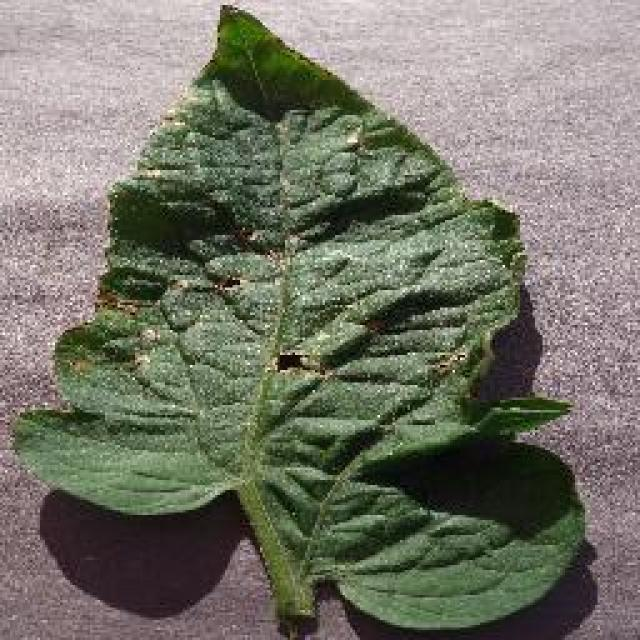Tomato___Target_Spot: (12, 10, 582, 638)
